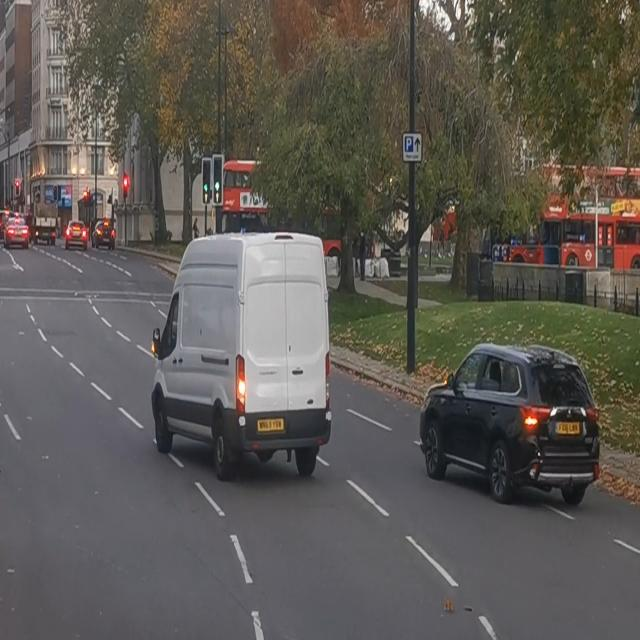Car: (151, 236, 332, 472), (418, 333, 604, 515), (65, 213, 87, 254), (6, 217, 30, 250)
